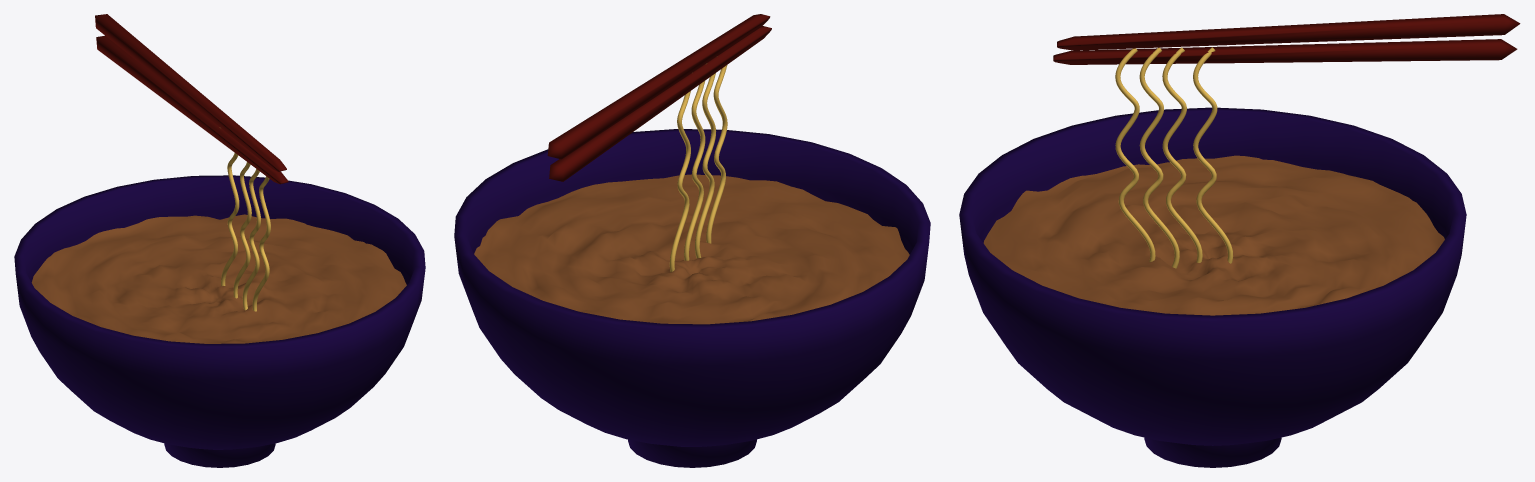
The model's file is noodle.glb.
3 renders of one model, left to right at view 1: azimuth 30°, elevation 25°; view 2: azimuth 150°, elevation 25°; view 3: azimuth 270°, elevation 25°, orthographic. The views are drawn at different scales.
Parts seen in each view (by area): view 1: Cylinder; view 2: Cylinder; view 3: Cylinder.
Part boxes in pixels (x1,y1,x2,y2): Cylinder: (14, 14, 425, 467); Cylinder: (454, 14, 930, 467); Cylinder: (959, 14, 1520, 467).
Size of the model in its own units: 2 by 1.83 by 2.21.
